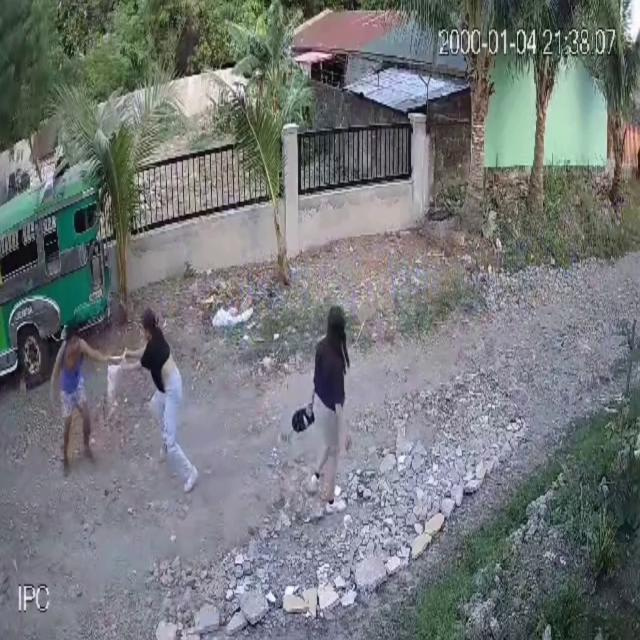walking: (293, 304, 352, 516)
